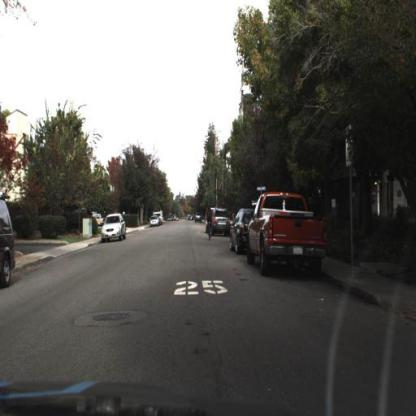biker: (205, 203, 215, 244)
car: (249, 189, 327, 279), (228, 205, 253, 258), (101, 210, 126, 245), (100, 212, 126, 243), (210, 206, 232, 240), (147, 213, 163, 231), (194, 211, 204, 227)
